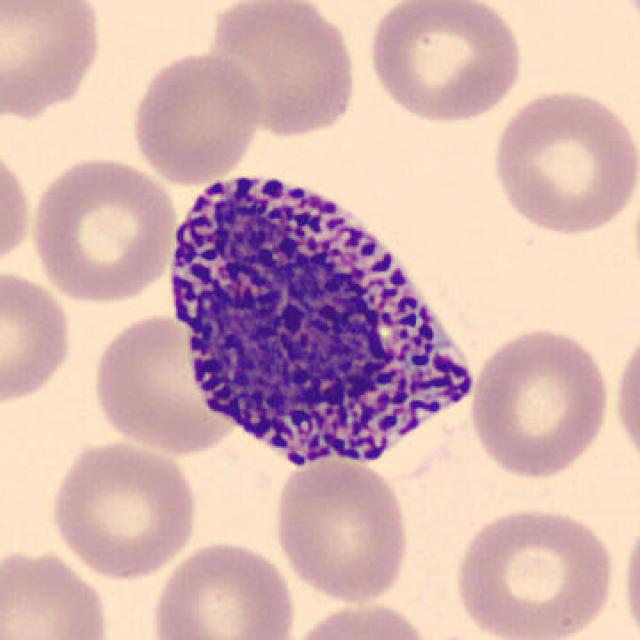Basophil: (157, 155, 490, 485)
RBC: (487, 83, 638, 240), (25, 152, 179, 305), (466, 323, 613, 481), (450, 502, 618, 640), (89, 308, 243, 458), (44, 436, 201, 580), (201, 0, 361, 141), (270, 453, 414, 607), (363, 0, 526, 127), (126, 47, 265, 187), (147, 537, 300, 640), (0, 0, 105, 122), (0, 543, 116, 640), (0, 266, 76, 407), (284, 597, 435, 640), (0, 139, 34, 279), (610, 321, 640, 476), (618, 502, 640, 639), (604, 0, 640, 41)
